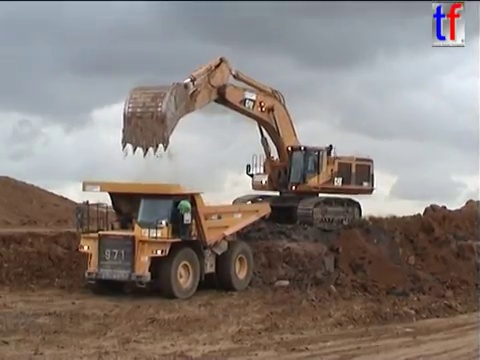excavator: (119, 53, 377, 232)
truck: (73, 179, 272, 300)
worker: (174, 191, 195, 241)
